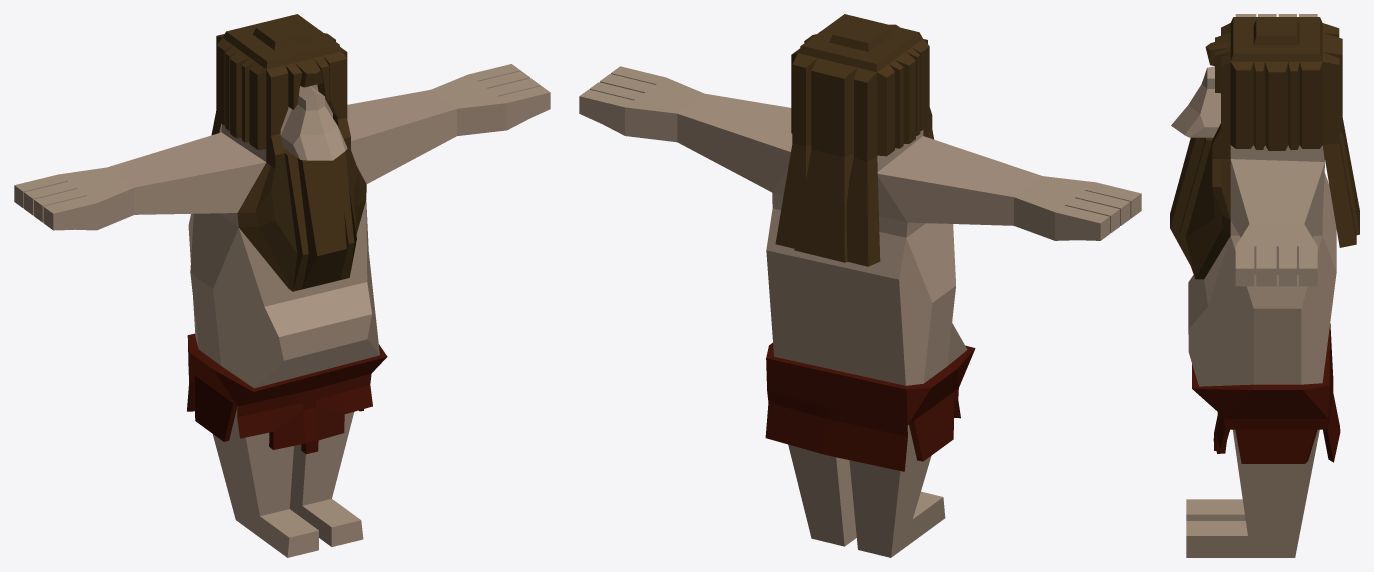
The model's file is Marve_3.fbx.
3 renders of one model, left to right at view 1: azimuth 30°, elevation 25°; view 2: azimuth 150°, elevation 25°; view 3: azimuth 270°, elevation 25°, orthographic. The views are drawn at different scales.
Parts seen in each view (by area): view 1: pCube1; view 2: pCube1; view 3: pCube1.
Boxes of the visible parts, x1,y1,x2,y2 form: pCube1: (14, 14, 550, 557); pCube1: (579, 14, 1141, 557); pCube1: (1170, 14, 1359, 557).
Size of the model in its own units: 65.57 by 20.63 by 61.3.
